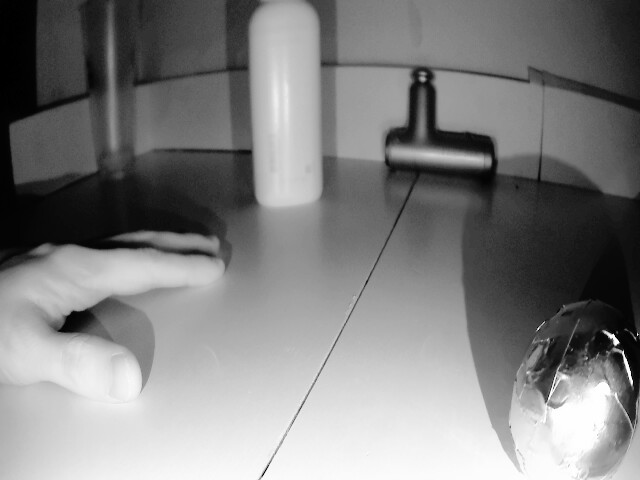black: (503, 304, 640, 480)
